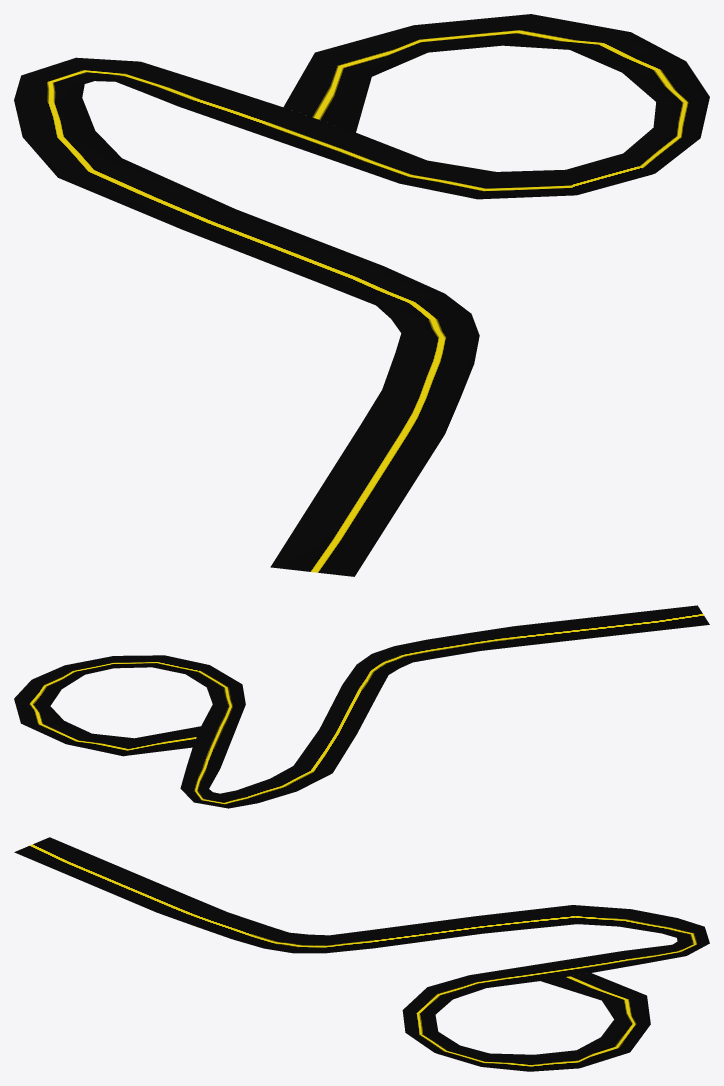
The model's file is road (2).fbx.
3 renders of one model, top to bottom at view 1: azimuth 30°, elevation 25°; view 2: azimuth 150°, elevation 25°; view 3: azimuth 270°, elevation 25°, orthographic. The views are drawn at different scales.
Visible parts, largest first — view 1: pPlane37; view 2: pPlane37; view 3: pPlane37.
Part boxes in pixels (<box>): pPlane37: <box>14,14,709,576</box>; pPlane37: <box>14,605,709,808</box>; pPlane37: <box>14,837,709,1071</box>.
Bounding box in the file's own units: 194 × 0.7388 × 243.
